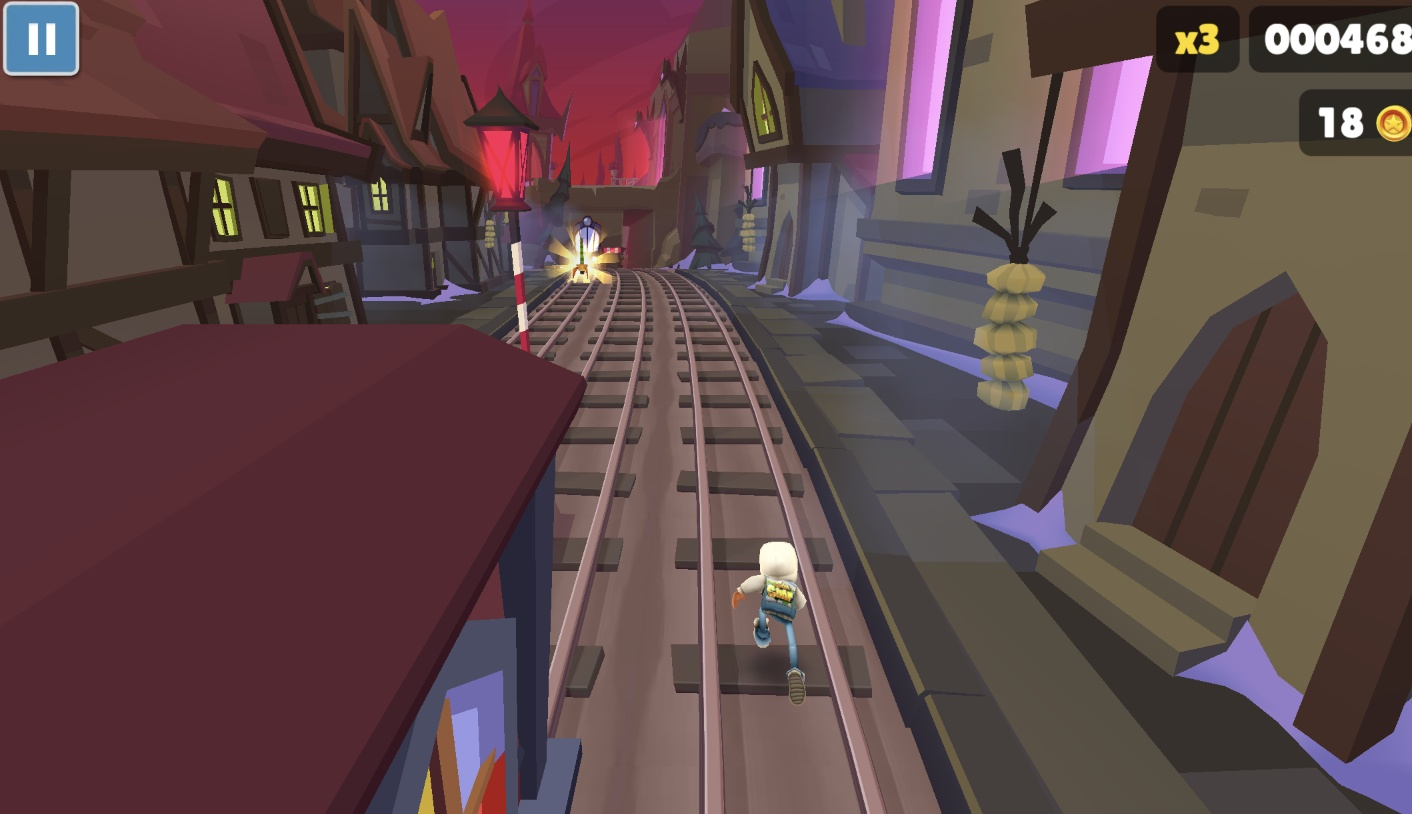ground_barrier: (602, 247, 625, 271)
train: (0, 326, 583, 814), (570, 219, 603, 275)
